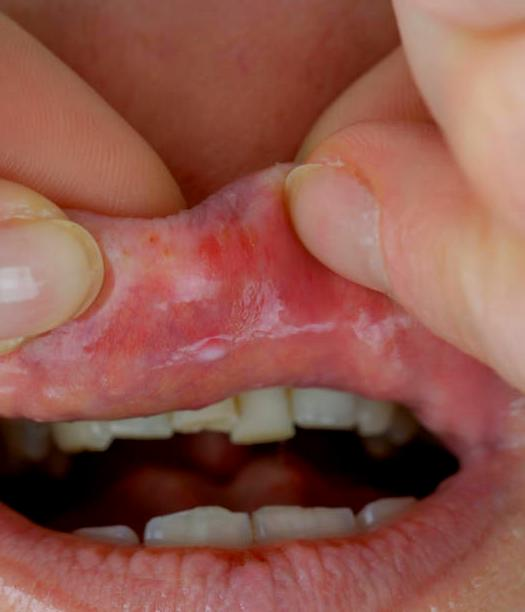Ulcer: (183, 215, 287, 337)
